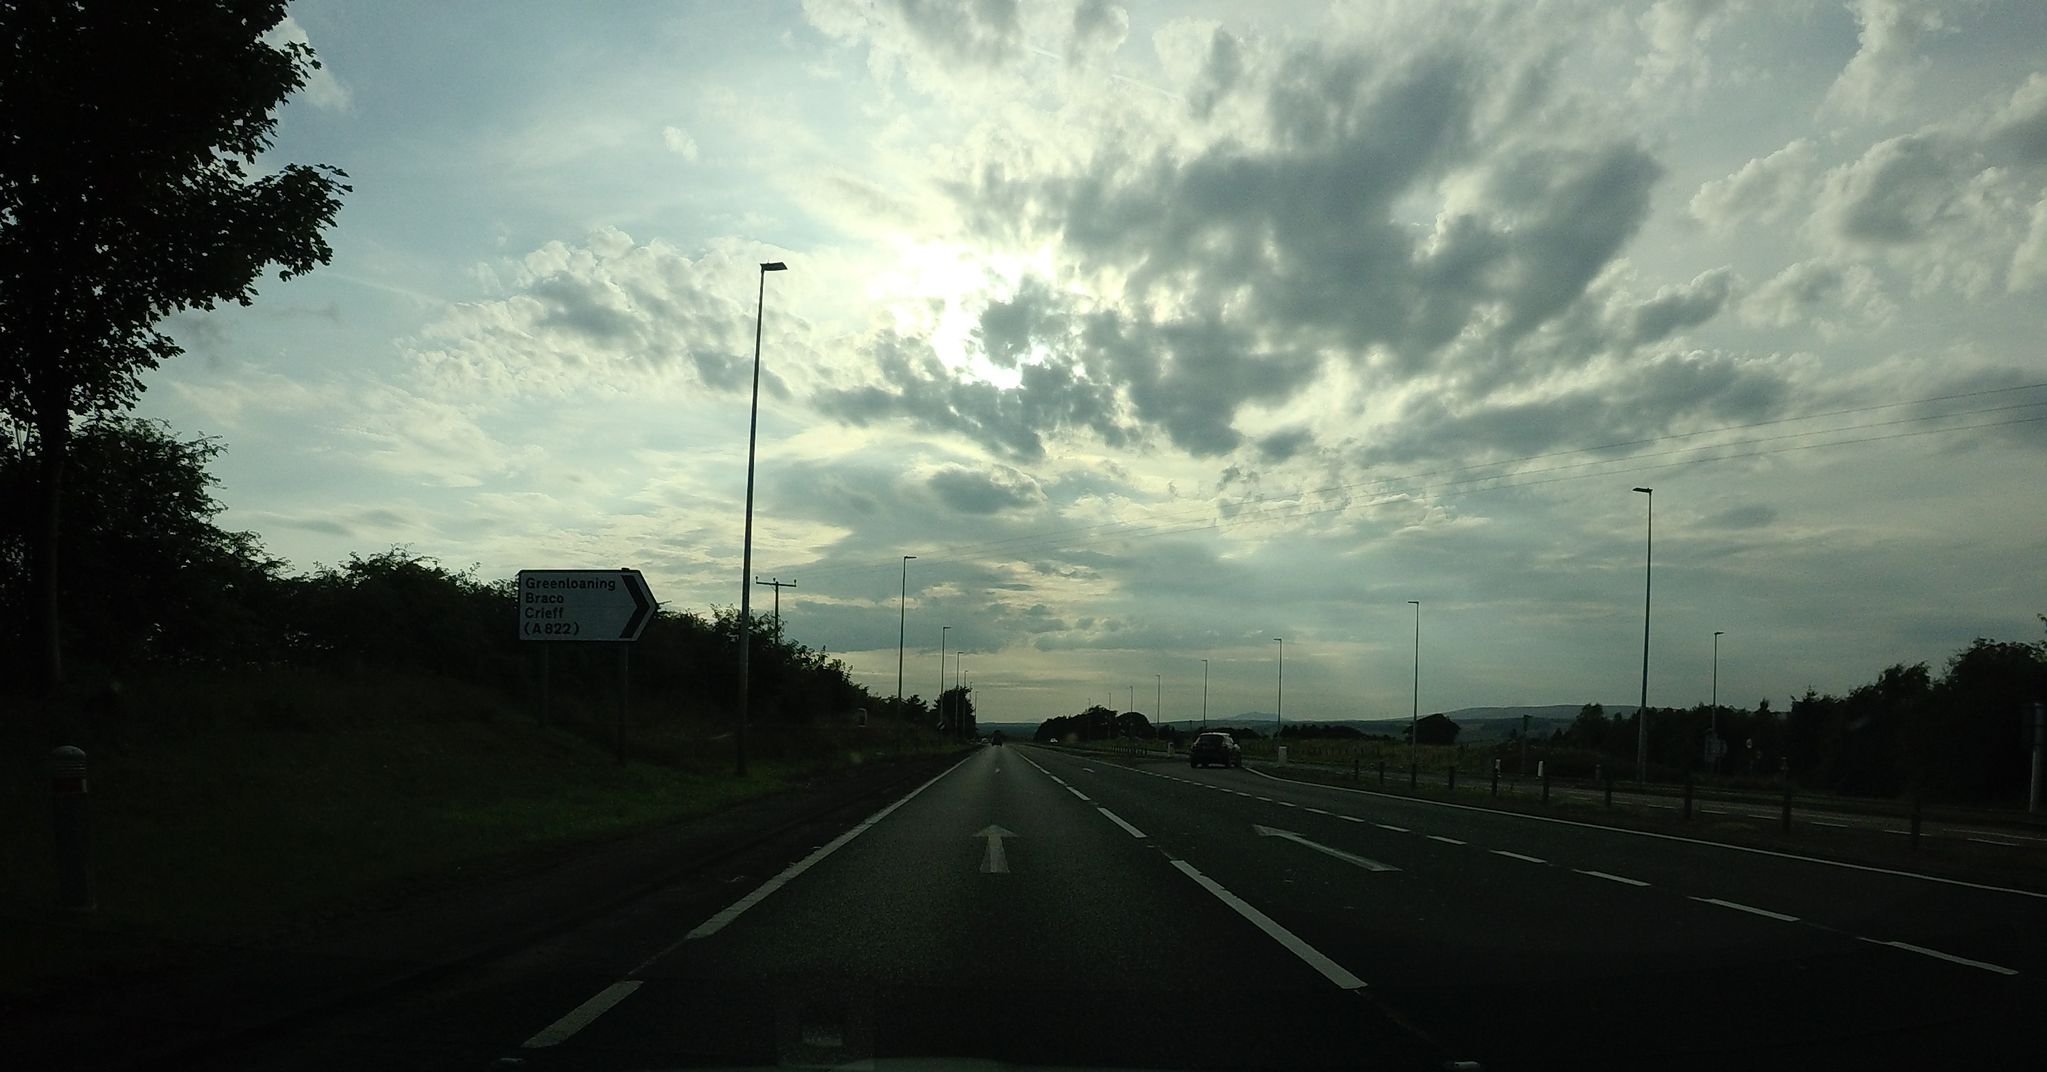car: (1189, 731, 1241, 767)
